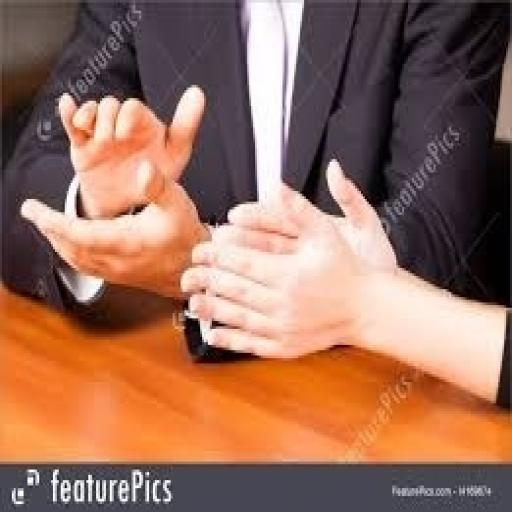clapping: (0, 0, 510, 366)
